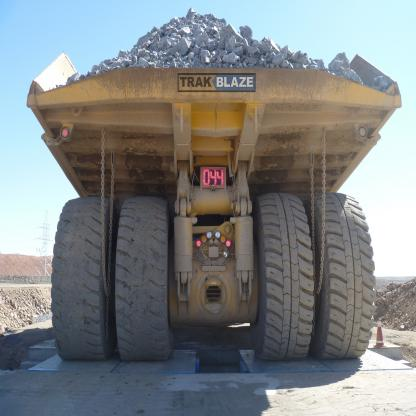dump_truck: (28, 8, 405, 385)
